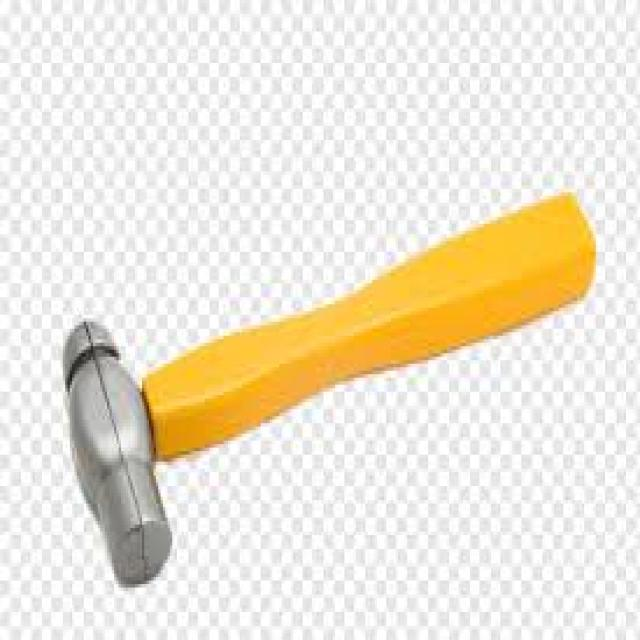hammer: (11, 157, 605, 600)
